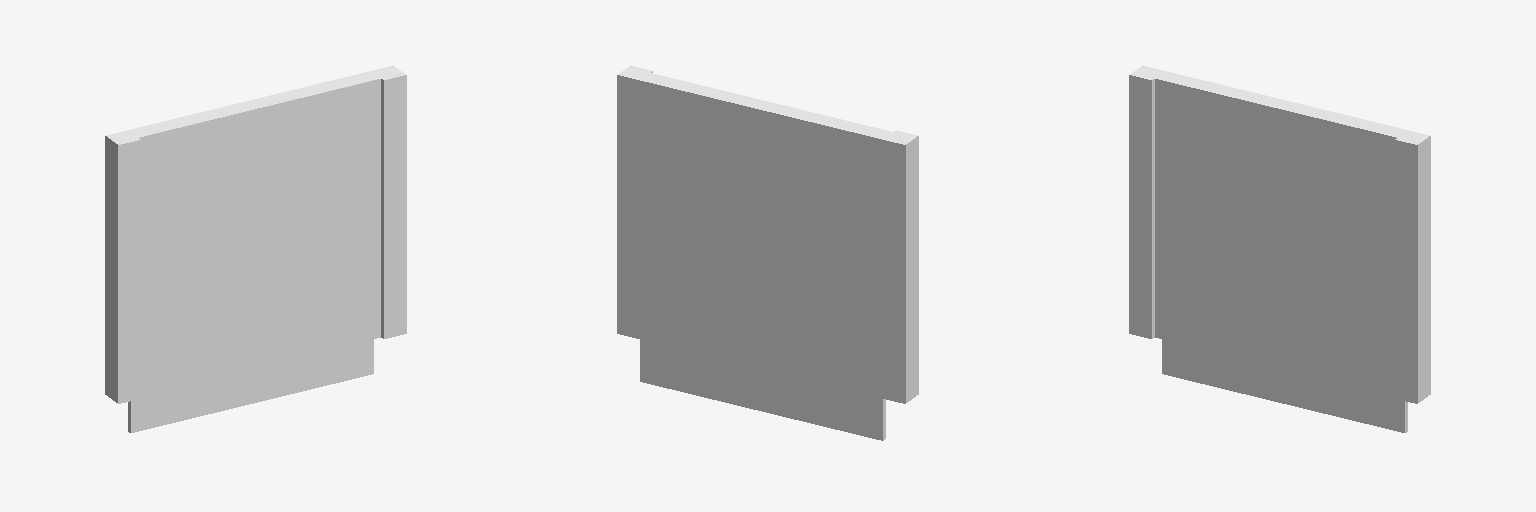
Rendered from Wall-S.obj.
The picture shows the model from 3 angles: view 1: azimuth 30°, elevation 25°; view 2: azimuth 150°, elevation 25°; view 3: azimuth 330°, elevation 25°; orthographic projection.
Bounding box in the file's own units: 64 × 64 × 5.